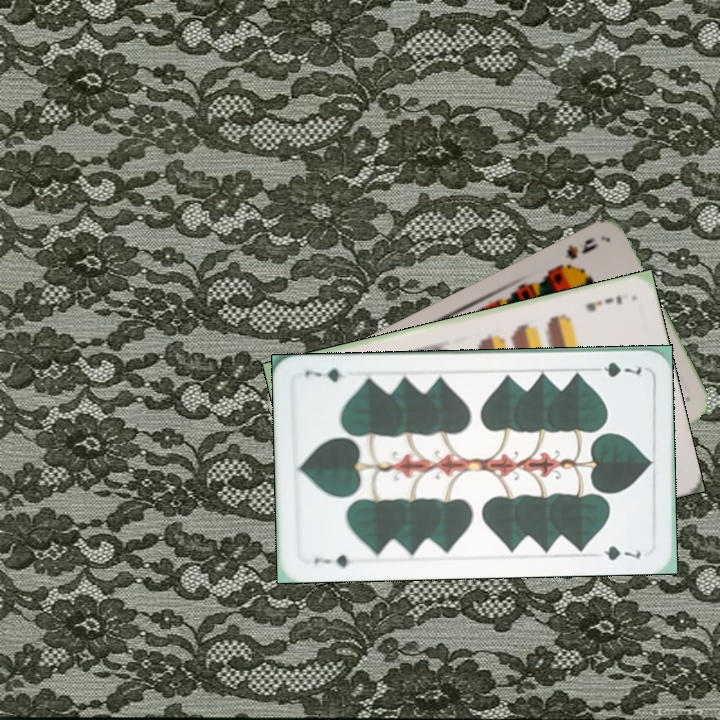E7: (582, 291, 625, 314)
G7: (587, 358, 644, 380), (310, 551, 361, 570)
S9: (550, 233, 601, 274)
